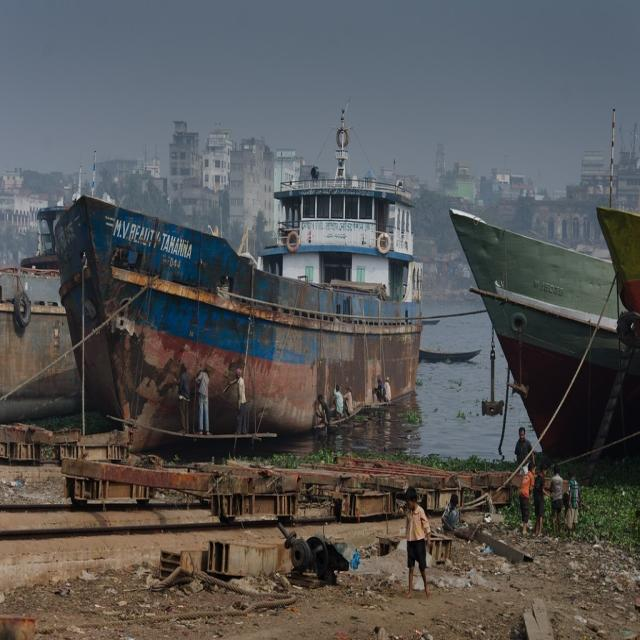boat: (52, 168, 428, 407)
